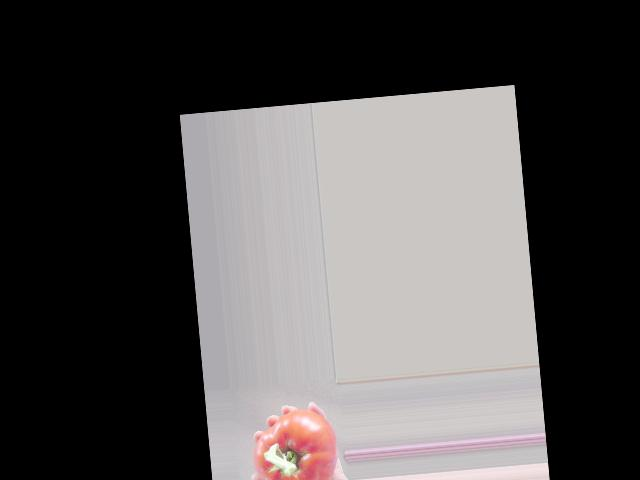tomato: (249, 406, 341, 480)
